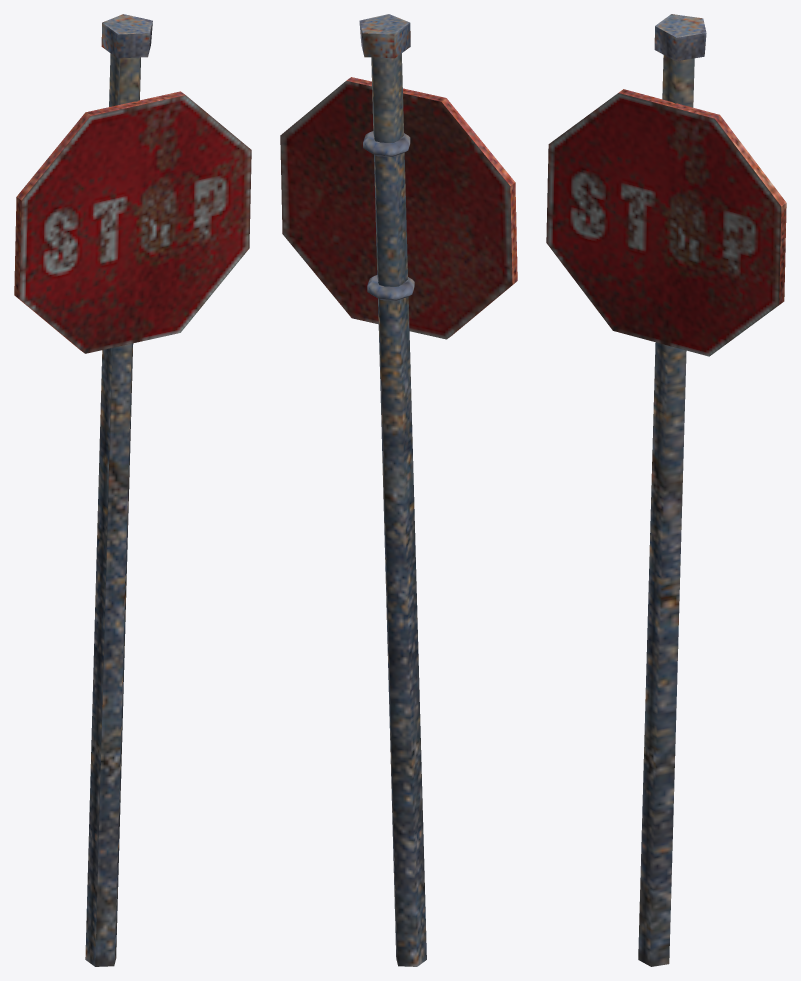
File: MH_prop_stopsign_00.fbx
3 views of the same model, side by side, from view 1: azimuth 30°, elevation 25°; view 2: azimuth 150°, elevation 25°; view 3: azimuth 330°, elevation 25° (orthographic).
Visible parts, largest first — view 1: StopSign; view 2: StopSign; view 3: StopSign.
Boxes of the visible parts, x1,y1,x2,y2 form: StopSign: (14,14,251,966); StopSign: (280,14,517,966); StopSign: (546,14,786,966).
Size of the model in its own units: 1.13 by 4.35 by 0.223.
